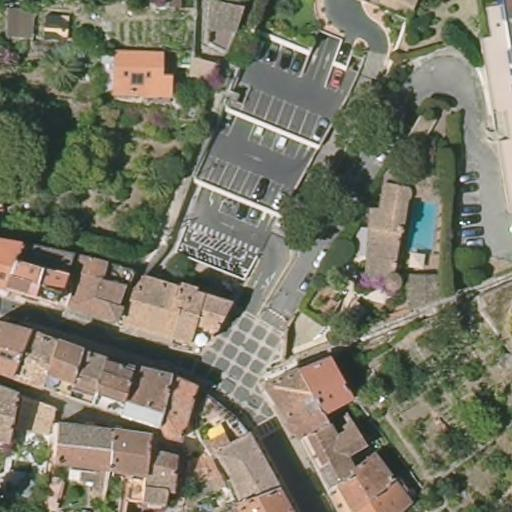pool: (403, 189, 440, 260)
